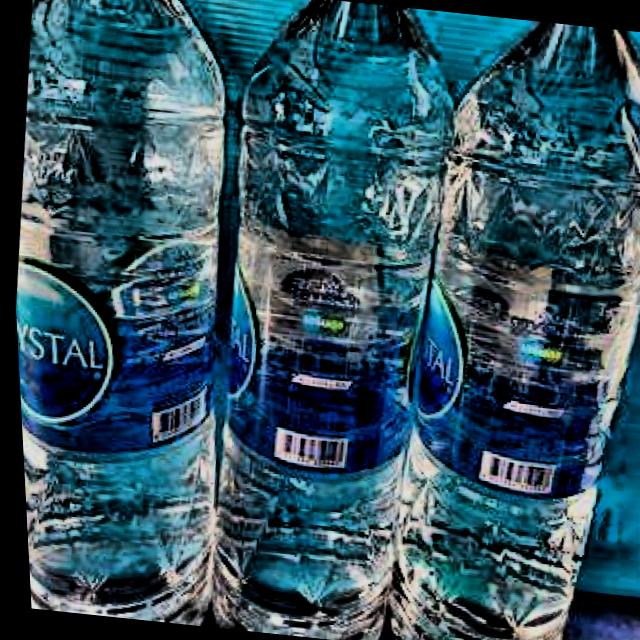Bottles: (182, 0, 490, 640), (0, 0, 275, 627), (382, 12, 640, 640)
